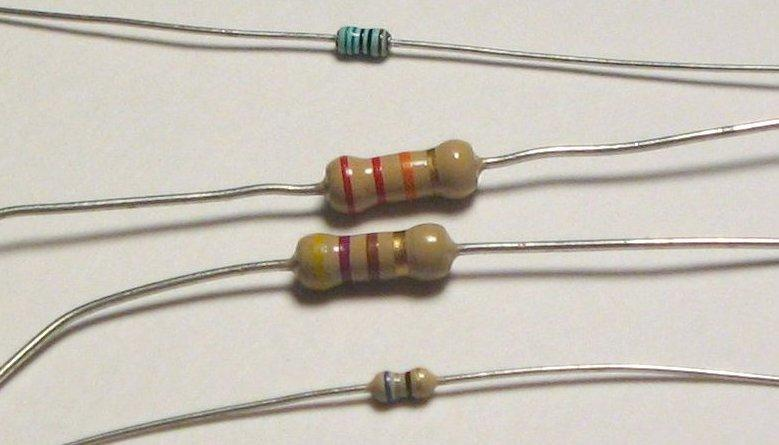resistor: (320, 139, 487, 220), (291, 222, 461, 296), (366, 363, 441, 406), (333, 23, 391, 68)
